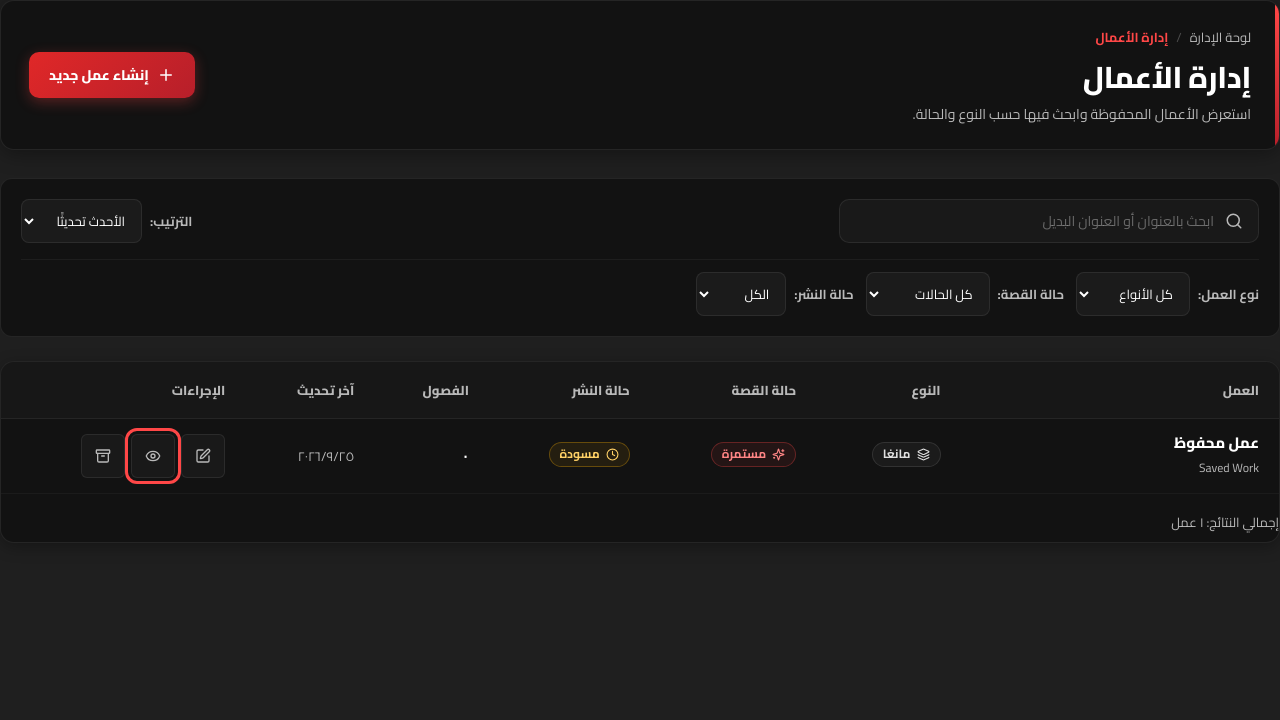
Test case: saved administrative works › keeps keyboard focus in the status confirmation and returns it on Escape
Expected: the text "عمل محفوظ" is shown, [1174,433,1259,452]
Click the button named "نشر عمل محفوظ" at (153, 456), box [131,434,175,478]
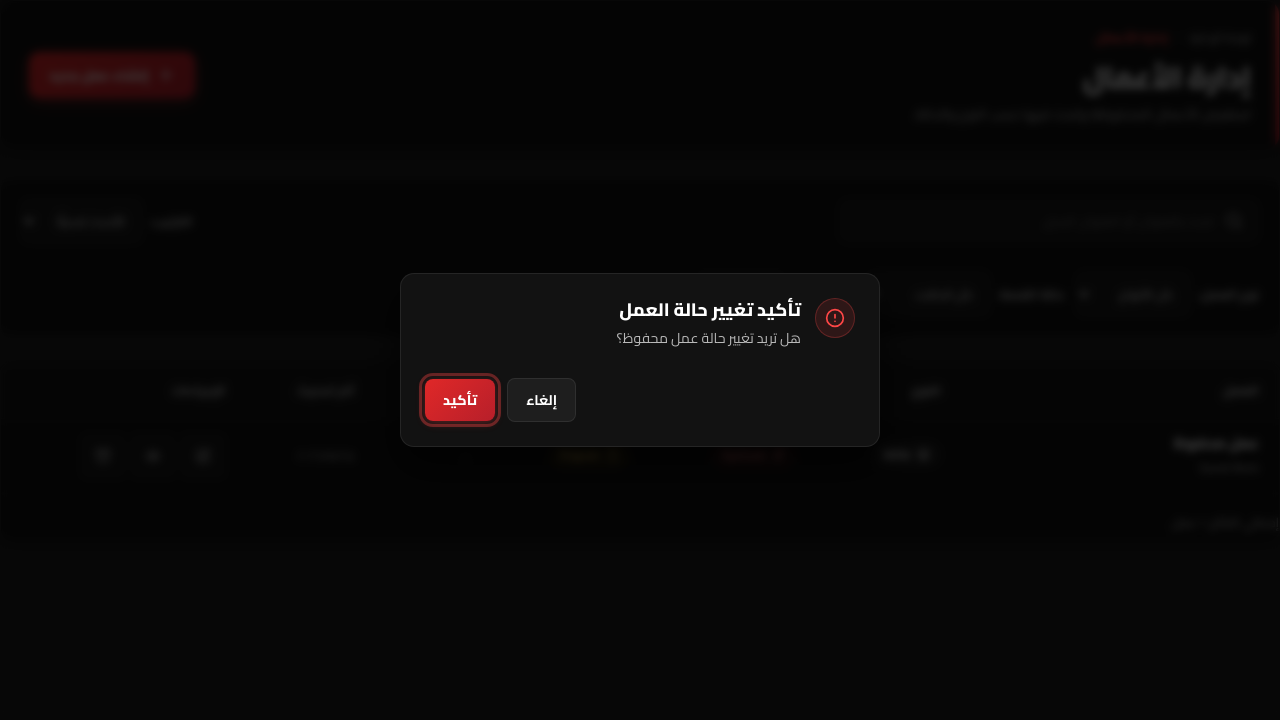
Result: the dialog is shown
Press Escape in the dialog, box [400,273,880,447]
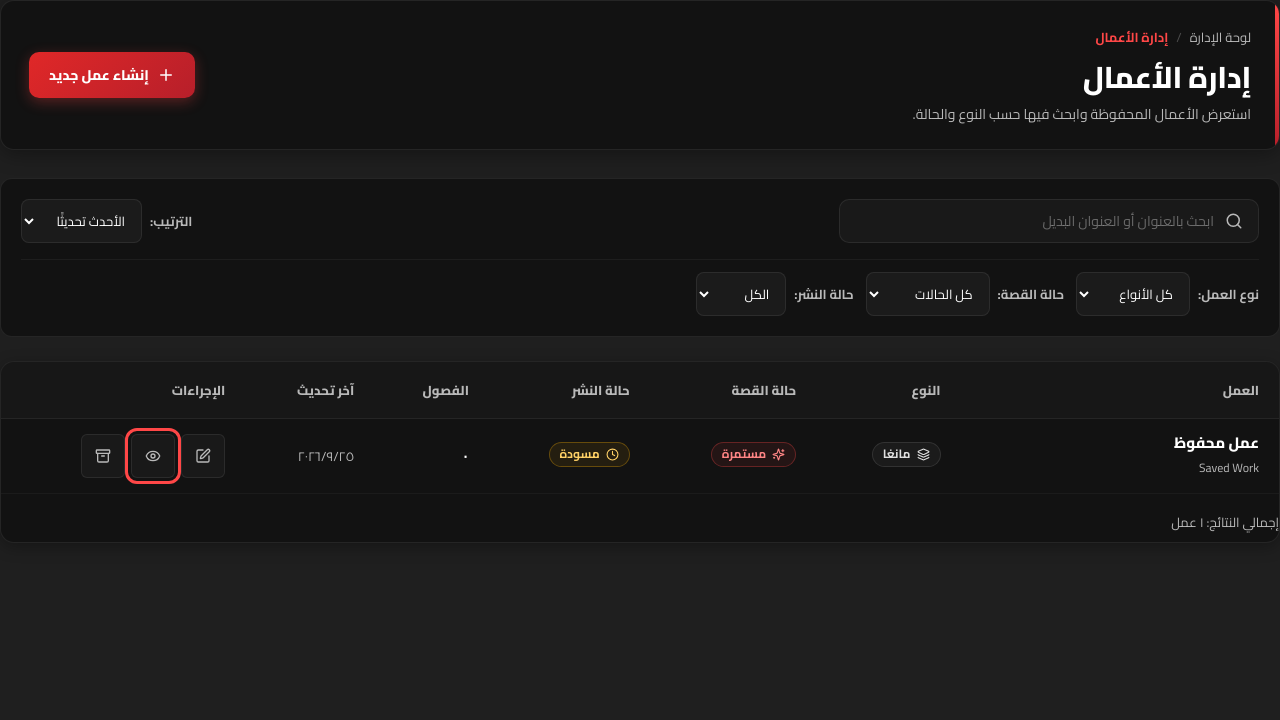
Result: the dialog is gone
